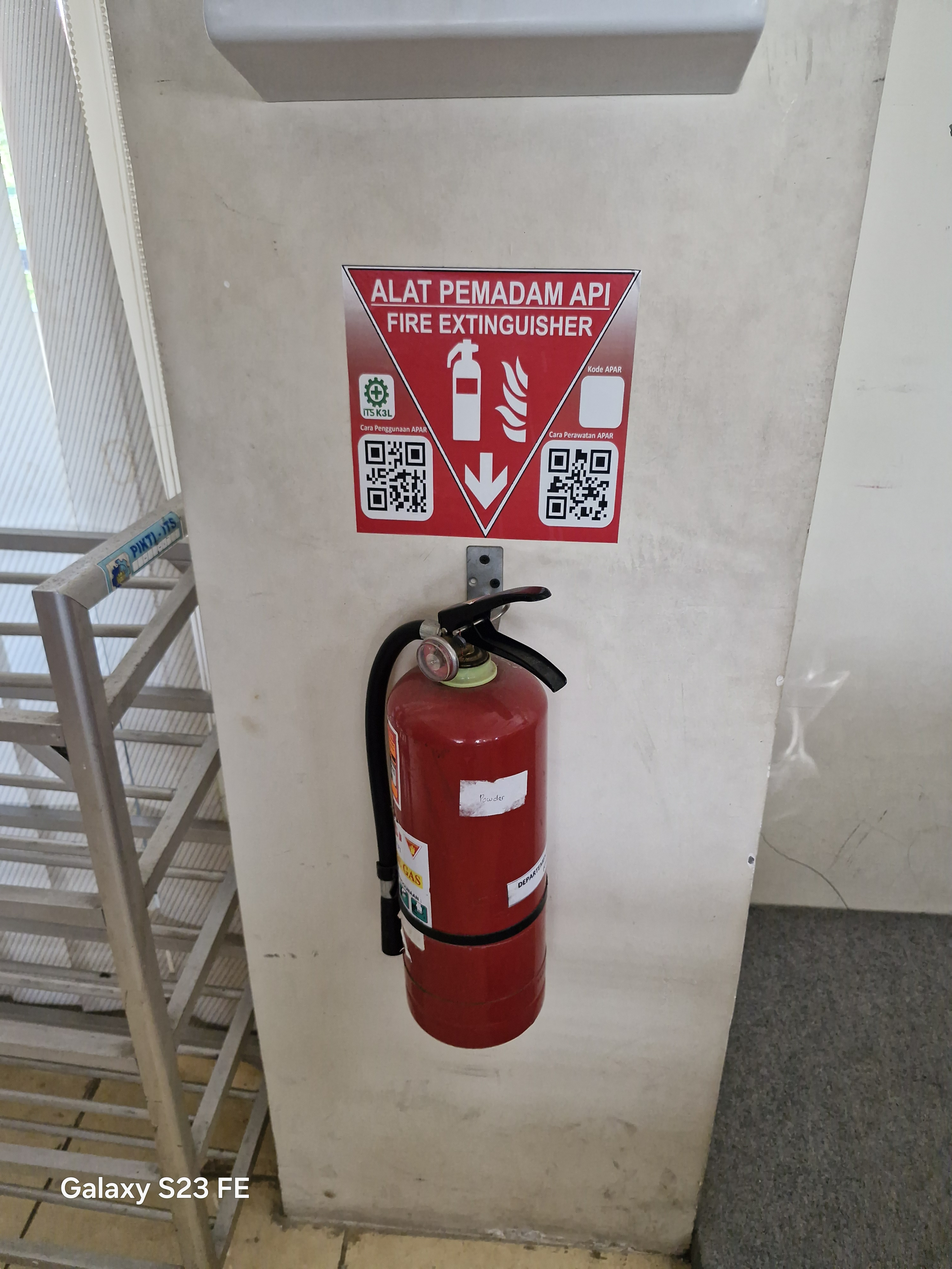fire-extinguisher: (366, 547, 565, 1048)
floor-other-merged: (724, 901, 951, 1268)
wall-other-merged: (144, 0, 951, 1268), (389, 642, 417, 694)
window-blind: (0, 0, 178, 520)
